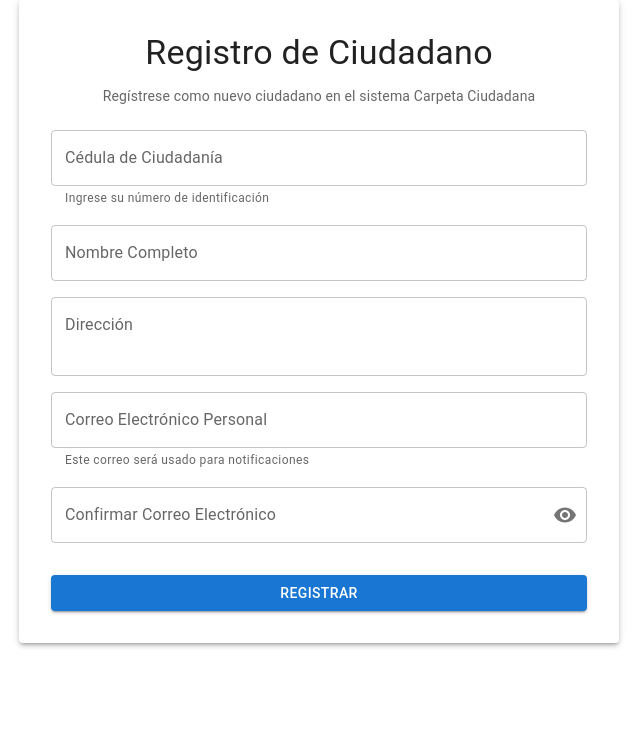
Test case: RegisterCitizenForm › validates email format and shows error in Spanish
Type "correo-invalido" into the field labelled "Correo Electrónico Personal" at (319, 420), box [51, 392, 587, 448]
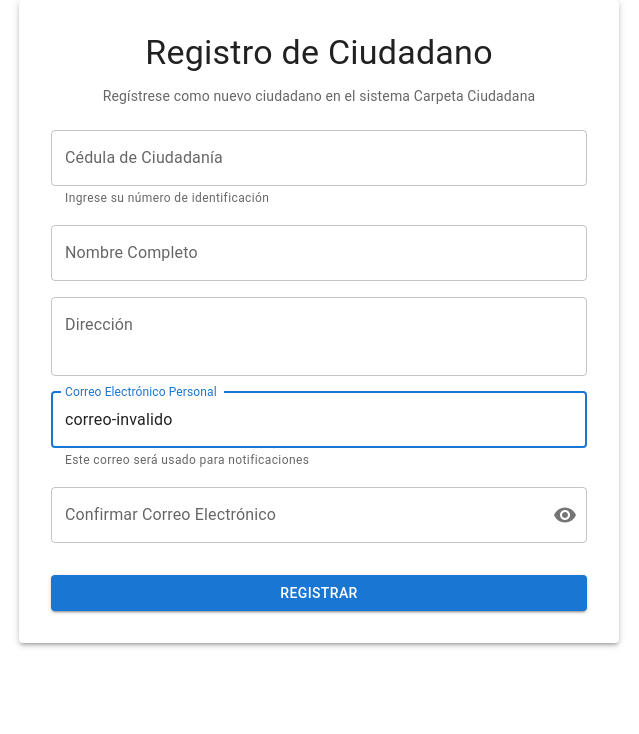
Note: Submit to trigger validation
Click the button "Registrar" at (319, 593), box [51, 575, 587, 611]
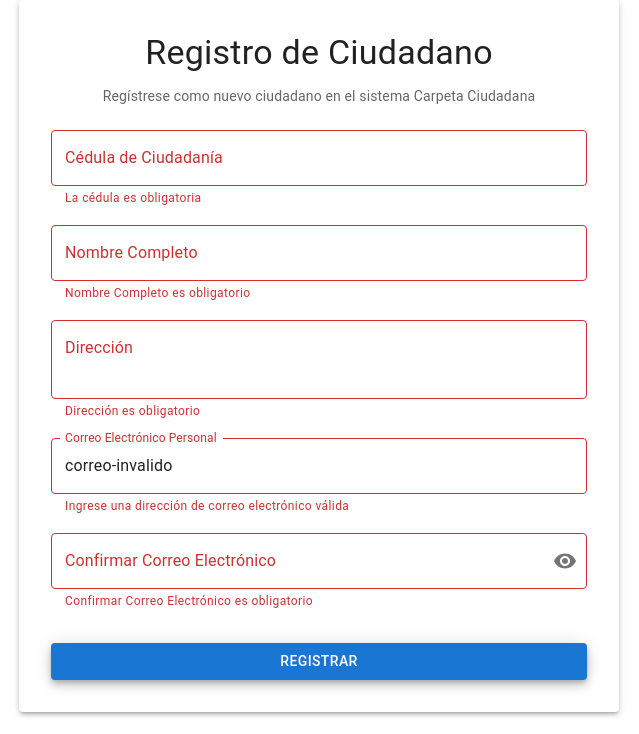
Now the text "Ingrese una dirección de correo electrónico válida" is shown, box [65, 499, 349, 513]
